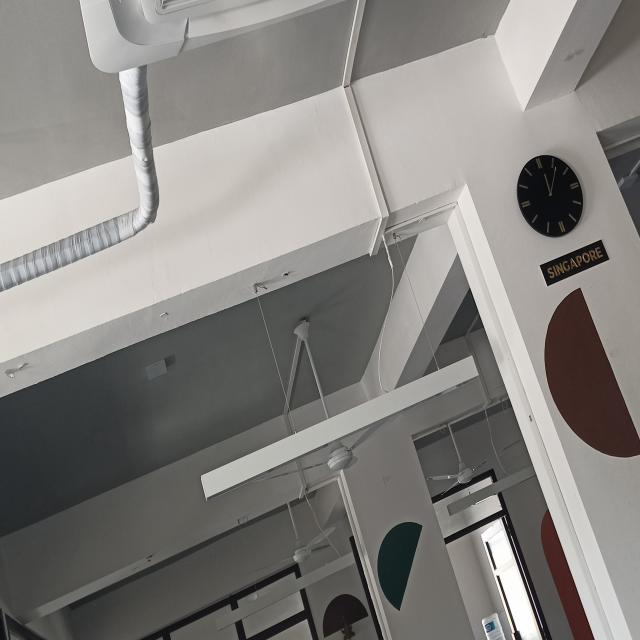light_off: (192, 341, 486, 508), (204, 544, 360, 637), (443, 466, 542, 525)
